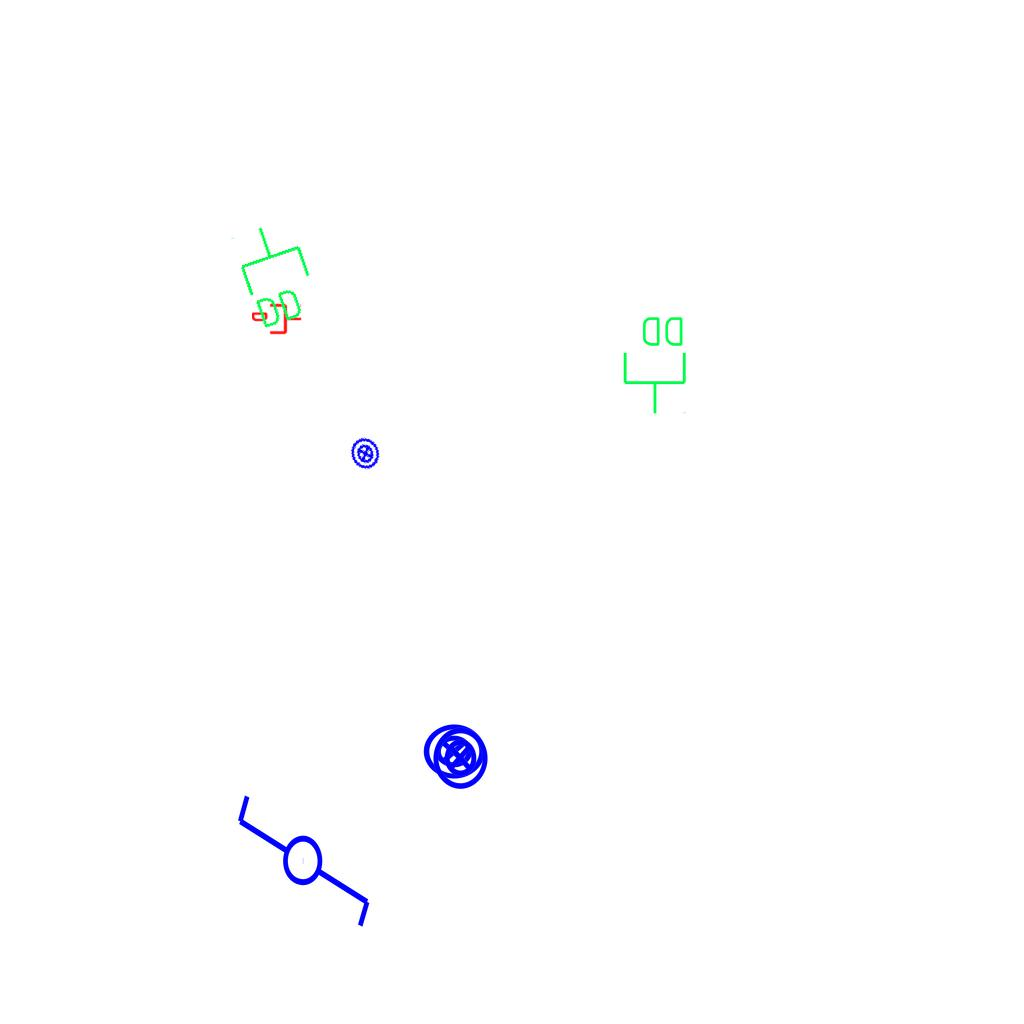Datenanschluss_einfach: (252, 302, 302, 336)
Datenanschluss_zweifach: (226, 214, 325, 335), (621, 313, 690, 416)
Taster_beleuchtet: (421, 719, 487, 785), (427, 725, 493, 791), (344, 432, 387, 475)
Wechselschalter: (233, 774, 377, 931)
